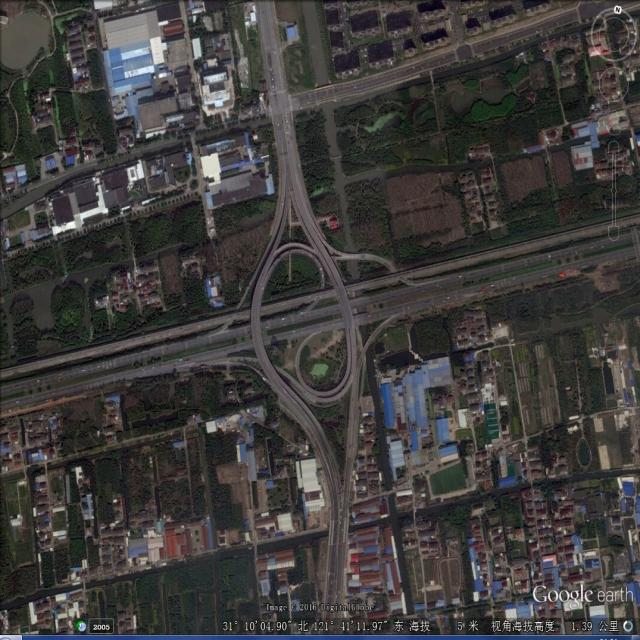overpass: (204, 176, 402, 507)
